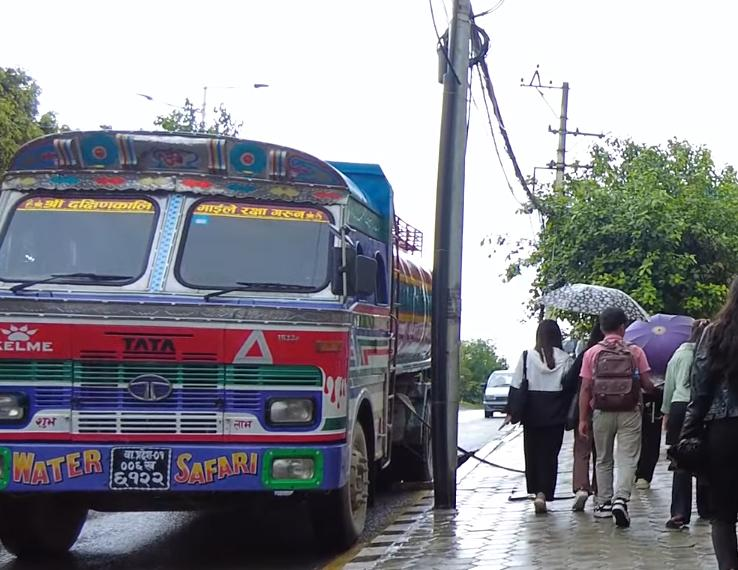car: (481, 369, 515, 418)
truck: (0, 126, 435, 558)
